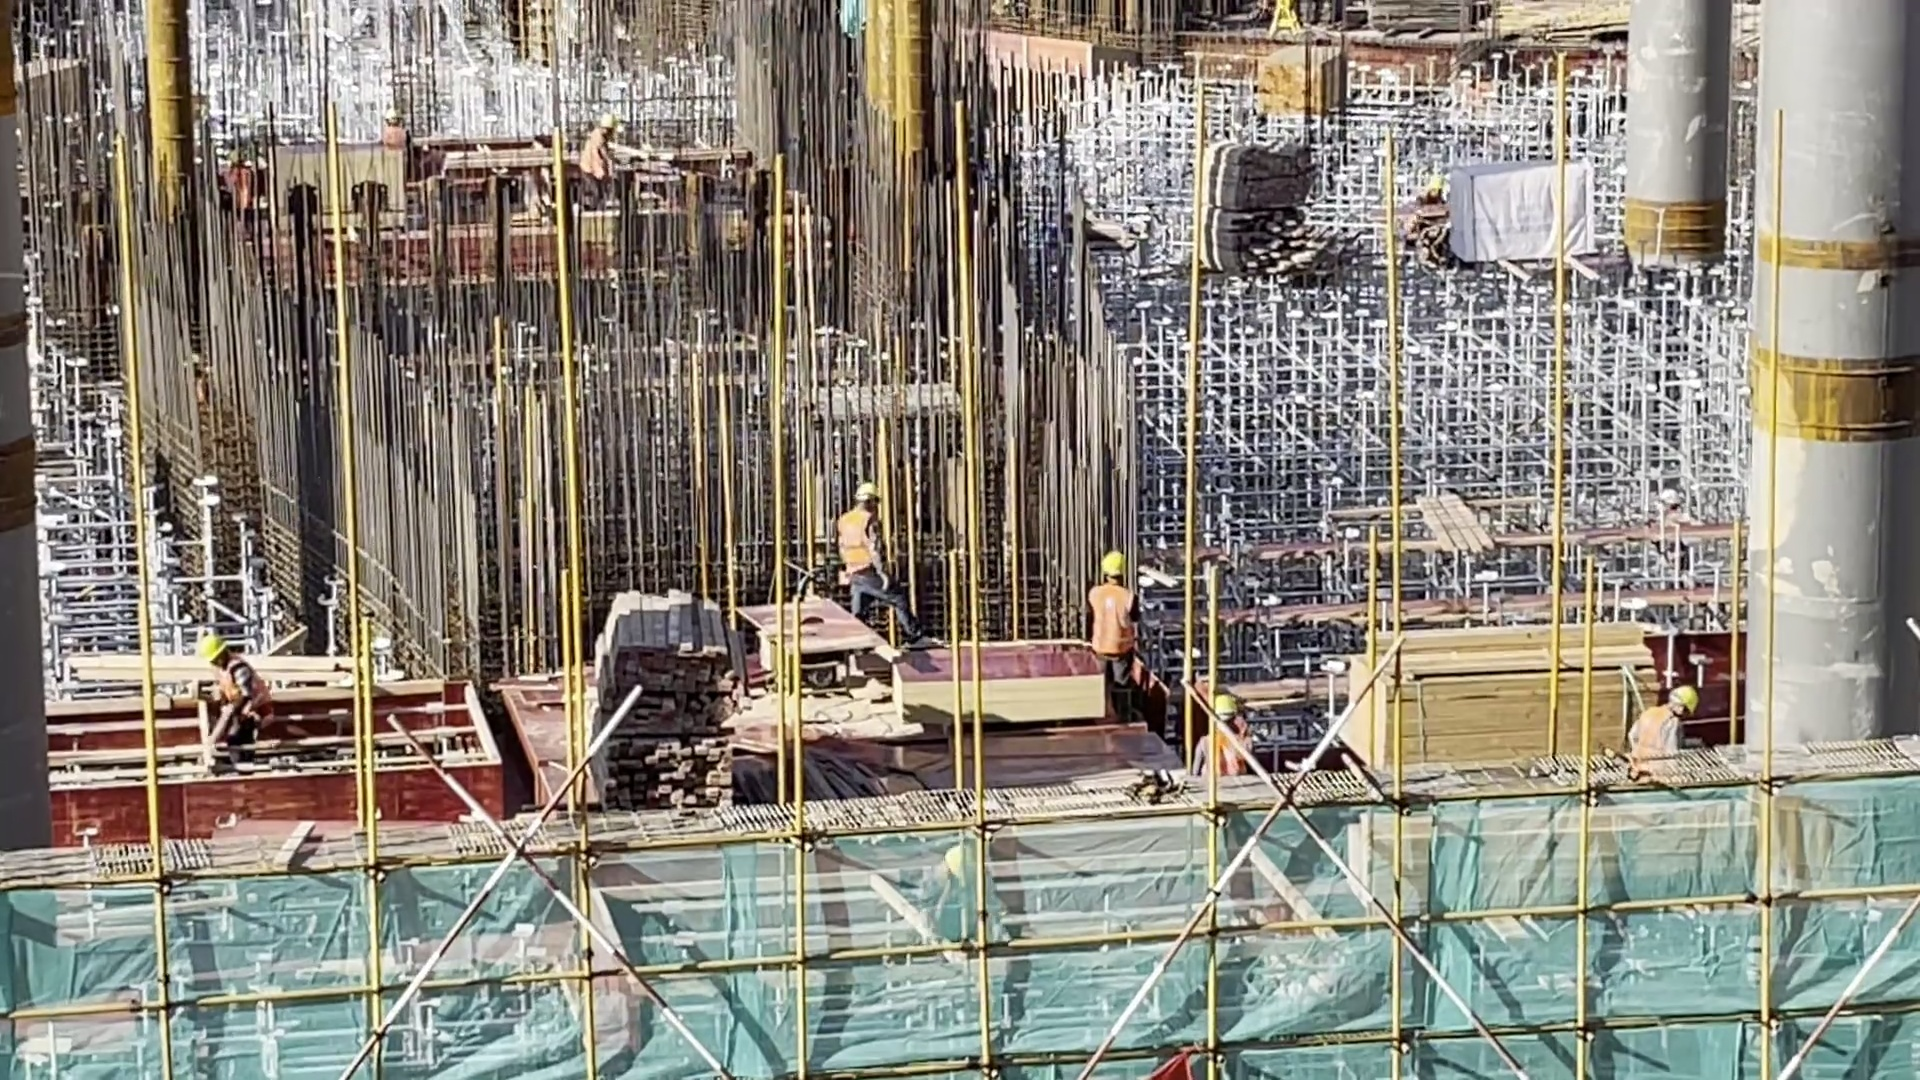board: (891, 639, 1112, 731)
ebox: (1261, 1, 1302, 34)
helmet: (1664, 685, 1701, 716), (198, 634, 227, 664), (1100, 552, 1129, 582), (851, 481, 879, 505), (1216, 694, 1240, 717), (598, 109, 619, 127), (385, 108, 402, 121)
person: (829, 481, 921, 646), (1081, 553, 1149, 717), (192, 634, 281, 738), (1618, 679, 1703, 756), (582, 109, 621, 181), (377, 108, 414, 146)
vest: (1088, 583, 1136, 655), (217, 661, 271, 720), (835, 509, 878, 575), (1632, 705, 1673, 756), (581, 131, 611, 179), (382, 125, 409, 147)
wood: (1338, 620, 1630, 776), (596, 591, 743, 816), (1256, 42, 1304, 117)
